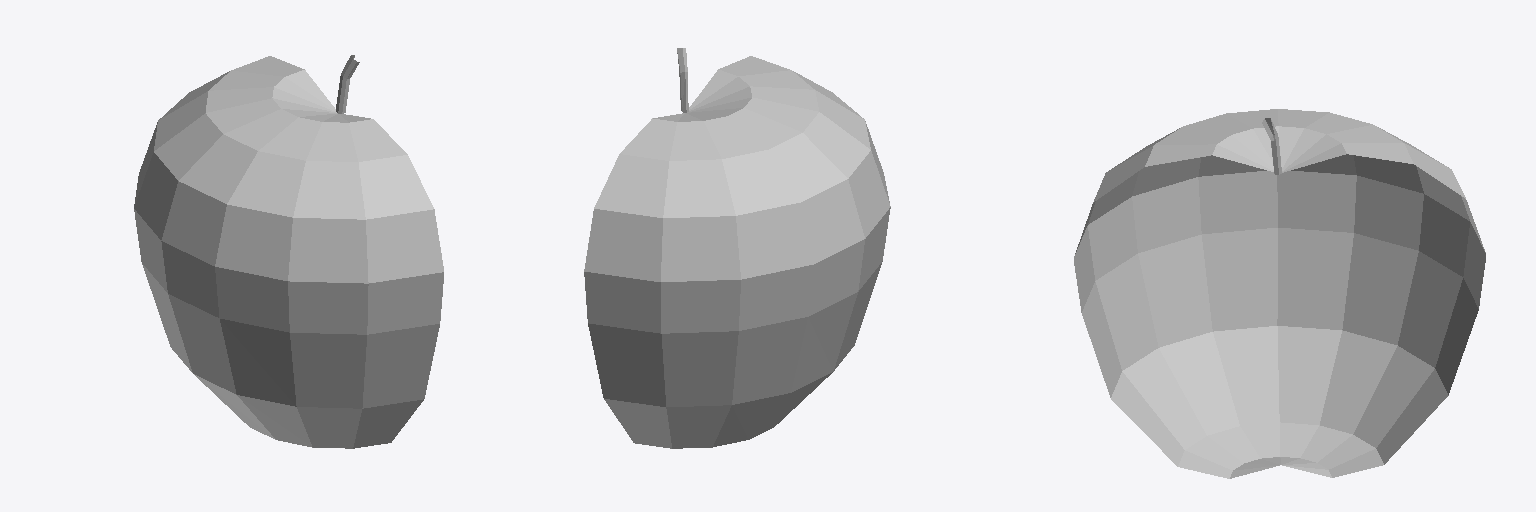
Rendered from Apple1.obj.
3 views of the same model, side by side, from view 1: azimuth 30°, elevation 25°; view 2: azimuth 150°, elevation 25°; view 3: azimuth 270°, elevation 25° (orthographic).
Visible parts, largest first — view 1: Inst3D25_RefRep.217; view 2: Inst3D25_RefRep.217; view 3: Inst3D25_RefRep.217.
Part boxes in pixels (x1,y1,x2,y2): Inst3D25_RefRep.217: (134, 55, 443, 448); Inst3D25_RefRep.217: (584, 48, 890, 448); Inst3D25_RefRep.217: (1074, 109, 1485, 478).
Bounding box in the file's own units: 1.53 × 2.78 × 2.86.